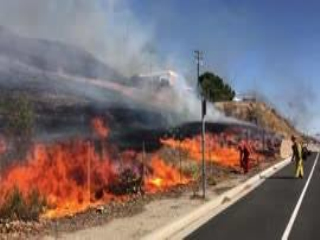fire: (10, 125, 257, 198)
smoke: (147, 72, 254, 125)
